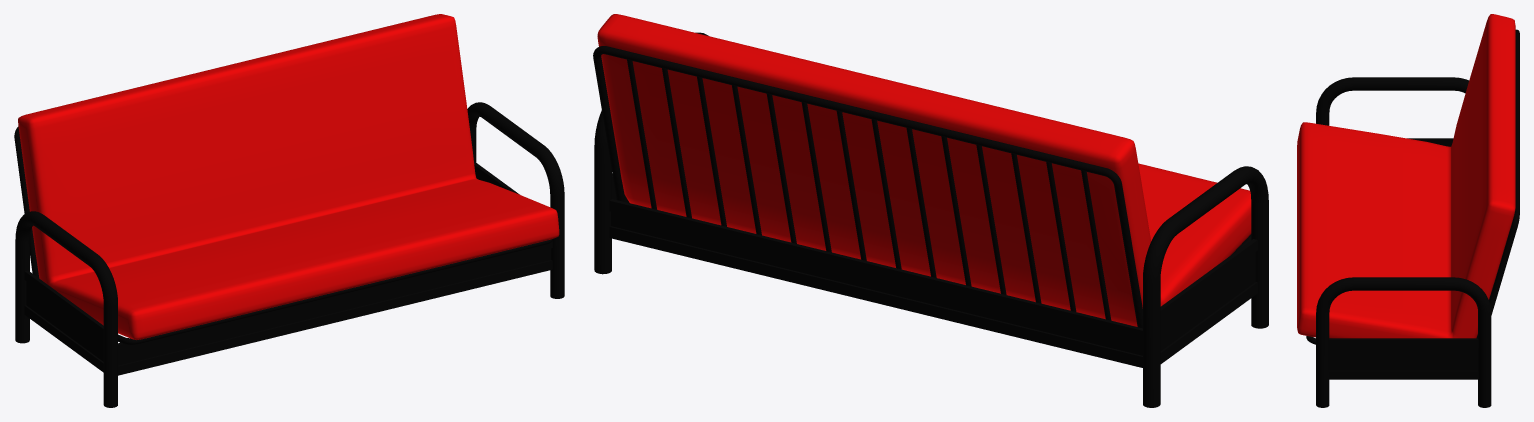
Rendered from futon-couch.glb.
3 views of the same model, side by side, from view 1: azimuth 30°, elevation 25°; view 2: azimuth 150°, elevation 25°; view 3: azimuth 270°, elevation 25° (orthographic). The views are drawn at different scales.
Parts seen in each view (by area): view 1: futon-couch; view 2: futon-couch; view 3: futon-couch.
Boxes of the visible parts, x1,y1,x2,y2 form: futon-couch: [14, 14, 564, 407]; futon-couch: [593, 14, 1268, 407]; futon-couch: [1297, 14, 1519, 407].
Size of the model in its own units: 2 by 0.8961 by 0.9154.
